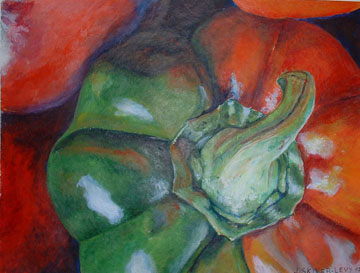capsicum: (46, 12, 359, 272)
